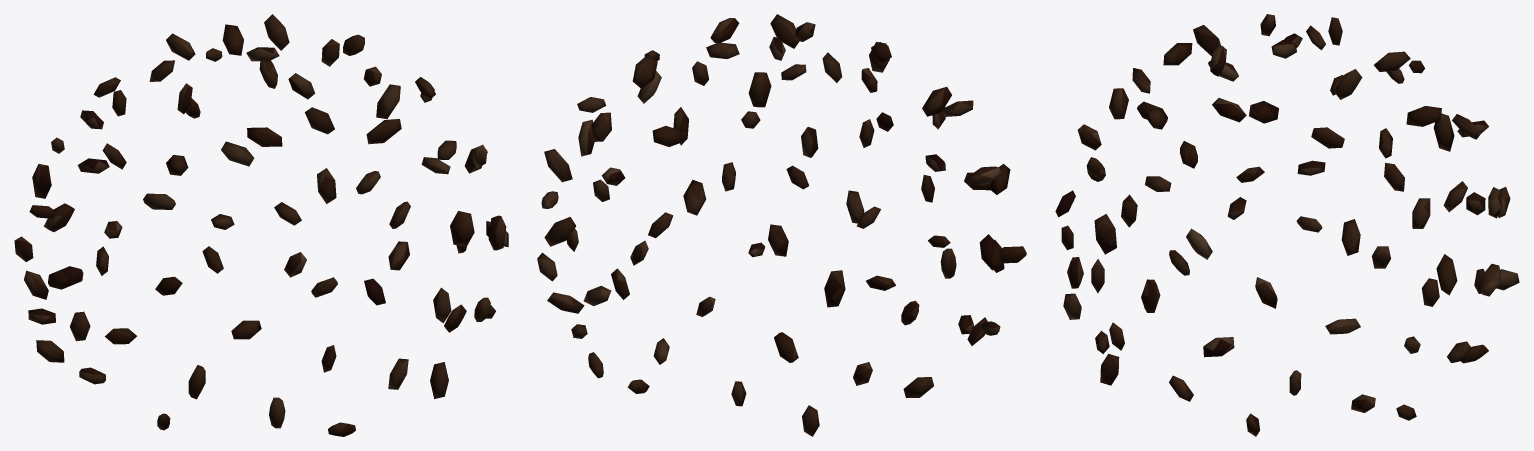
File: Sesame.fbx
3 renders of one model, left to right at view 1: azimuth 30°, elevation 25°; view 2: azimuth 150°, elevation 25°; view 3: azimuth 270°, elevation 25°, orthographic. The views are drawn at different scales.
Visible parts, largest first — view 1: Sesame; view 2: Sesame; view 3: Sesame.
Part boxes in pixels (x1,y1,x2,y2): Sesame: [14, 14, 508, 436]; Sesame: [537, 14, 1026, 436]; Sesame: [1055, 14, 1519, 436].
Bounding box in the file's own units: 1.18 × 0.8414 × 1.1.
Materials: 1 (1 with a texture image).
